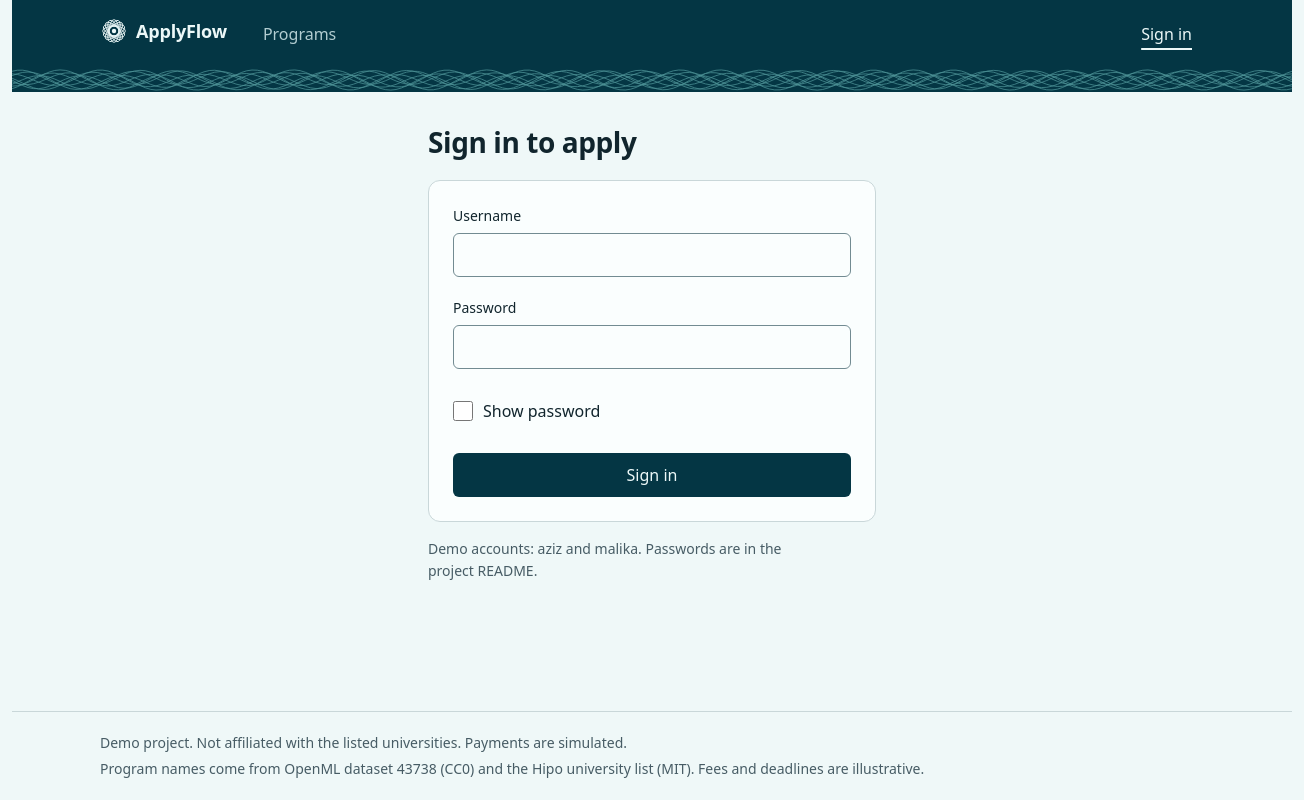
Test case: sign-in and route guards › keeps the username, clears the password and focuses the message on a wrong password
The width and height of the screenshot is (1304, 800).
Type "aziz" into the field labelled "Username" at (652, 255), box [453,233,851,277]
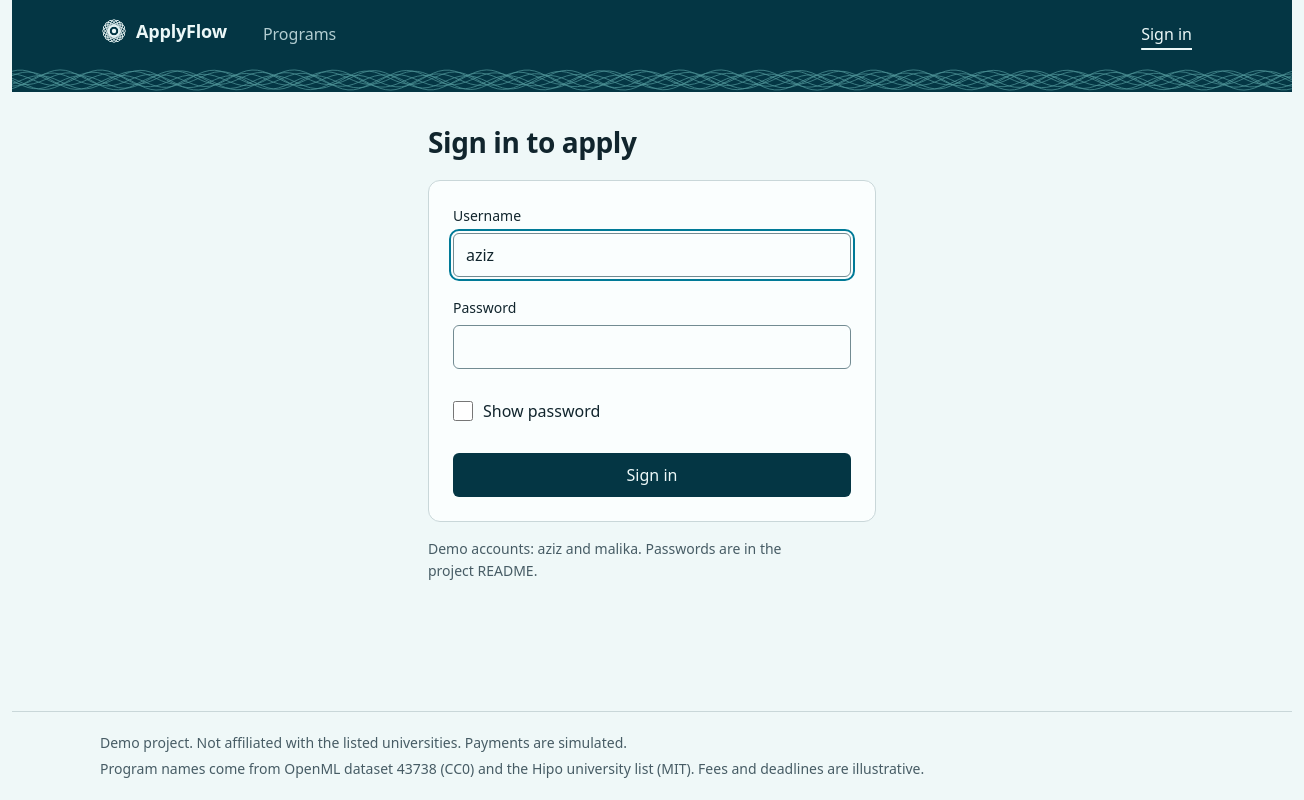
Type "wrong" into the password field labelled "Password" at (652, 347), box [453,325,851,369]
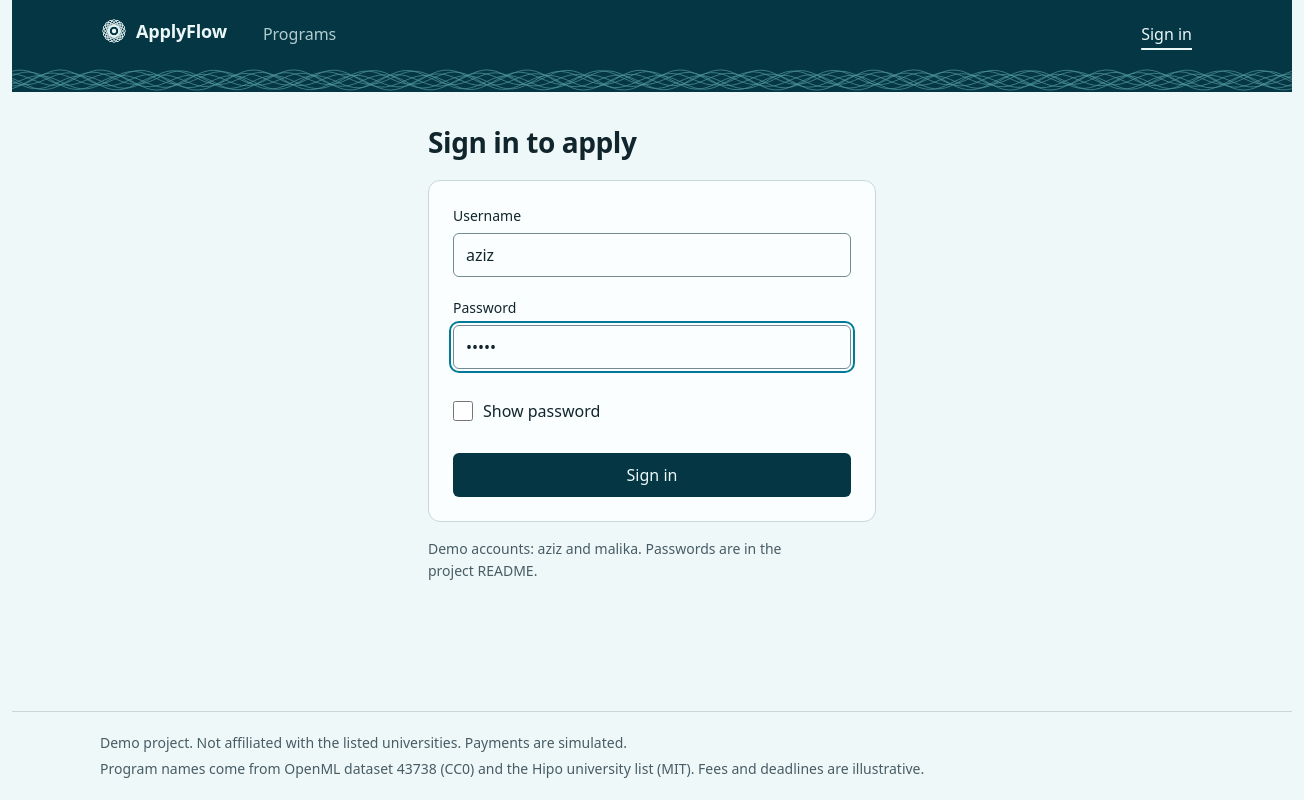
Click the button "Sign in" at (652, 475), box [453,453,851,497]
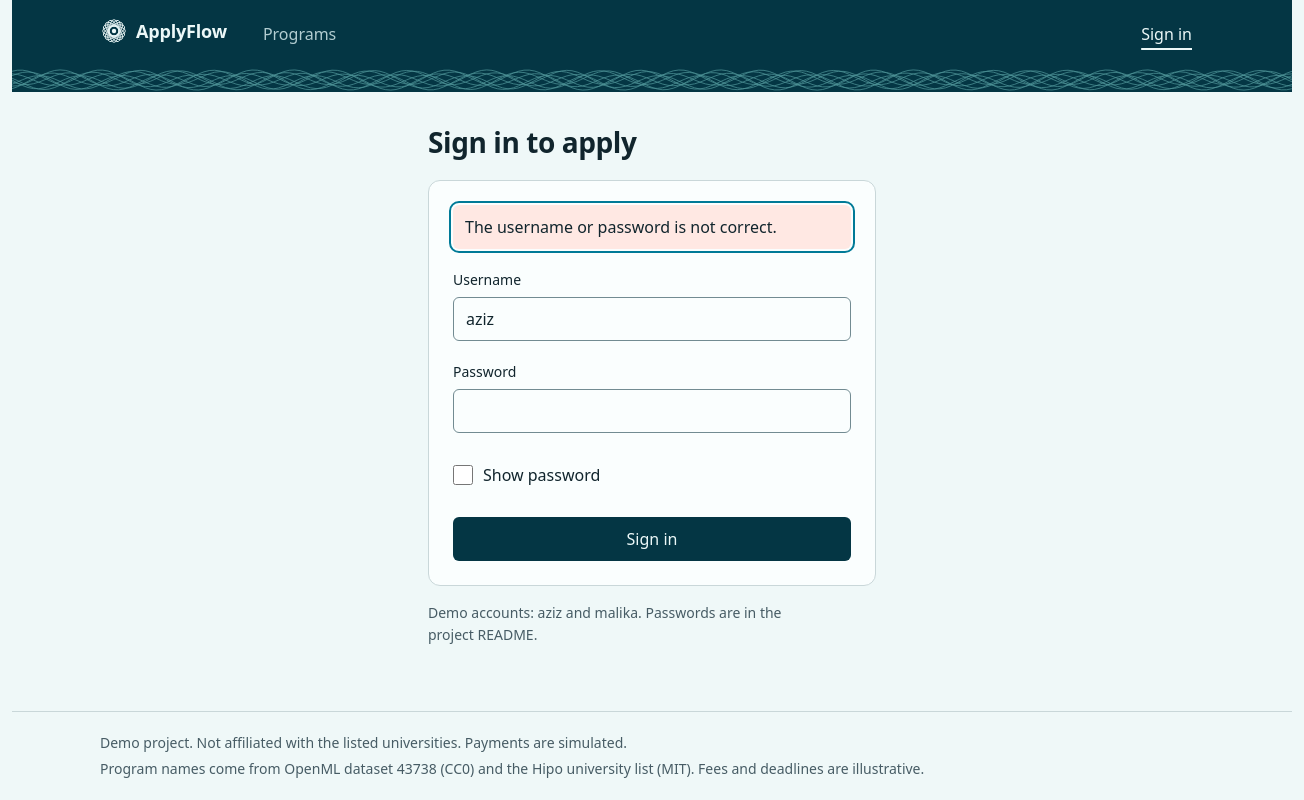
Check: the message reads "The username or password is not correct.", box [465,216,777,238]
Check: the password field labelled "Password" is empty, box [453,389,851,433]
